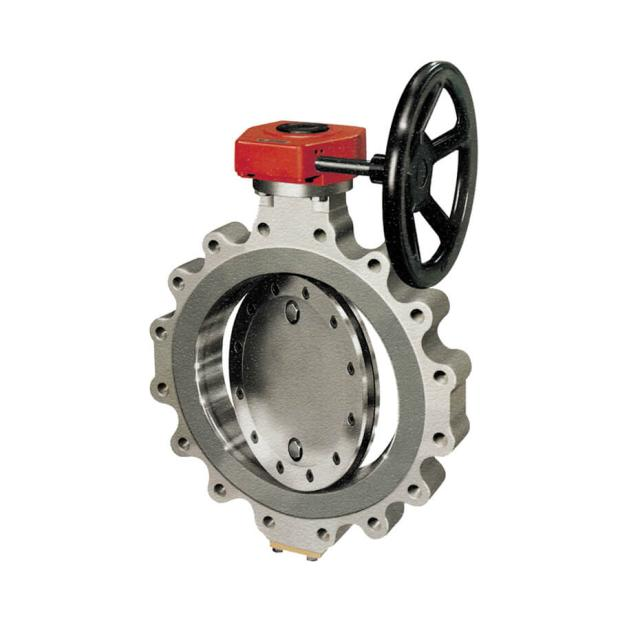Wheel Handle Valve Threaded: (374, 54, 482, 301)
